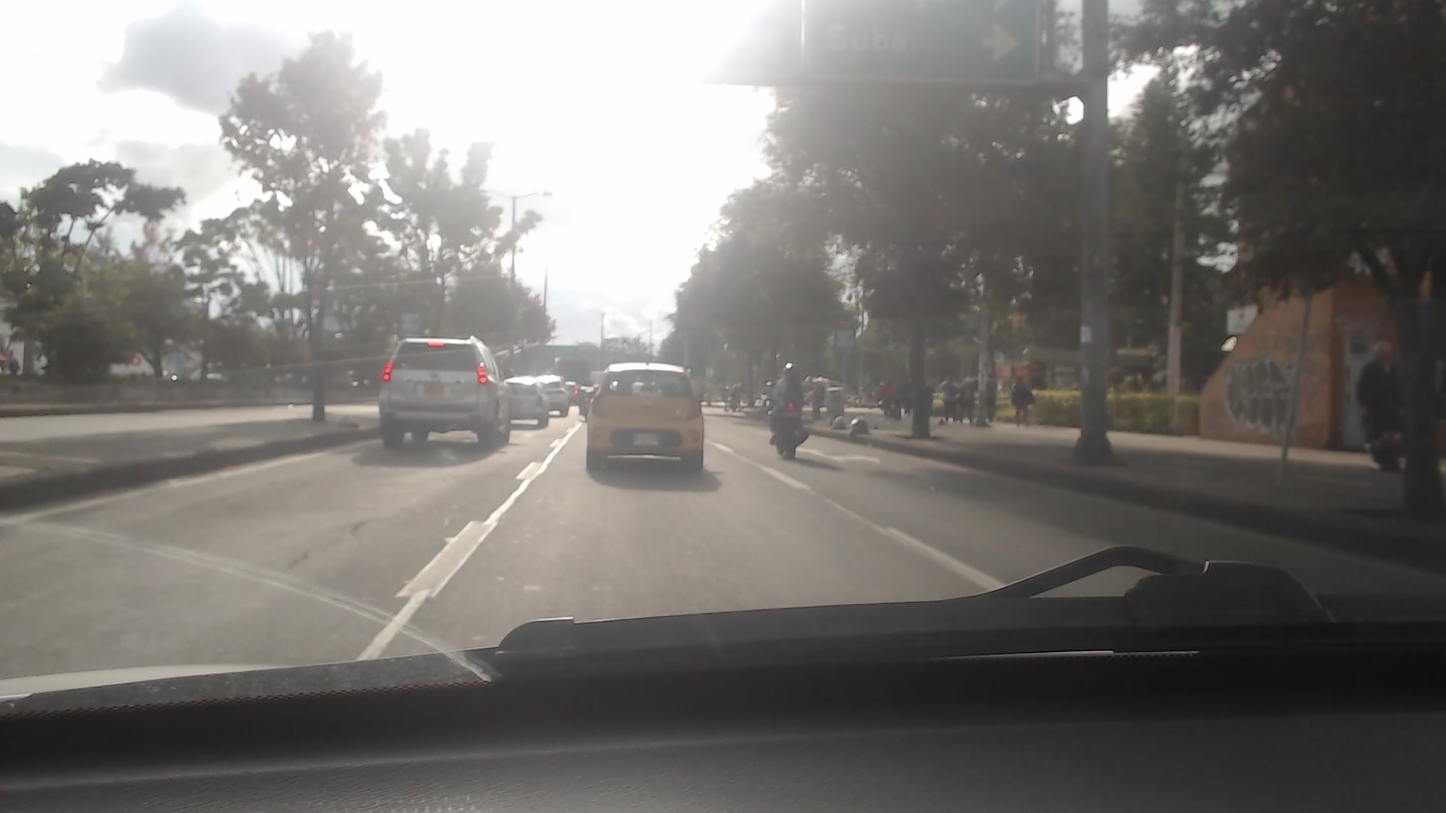car: (380, 341, 521, 449), (582, 360, 706, 479), (499, 378, 550, 429)
motorcycle: (771, 401, 803, 464)
person: (1356, 338, 1407, 472), (771, 363, 801, 448), (1009, 372, 1035, 428), (940, 373, 960, 425), (959, 381, 974, 424)
